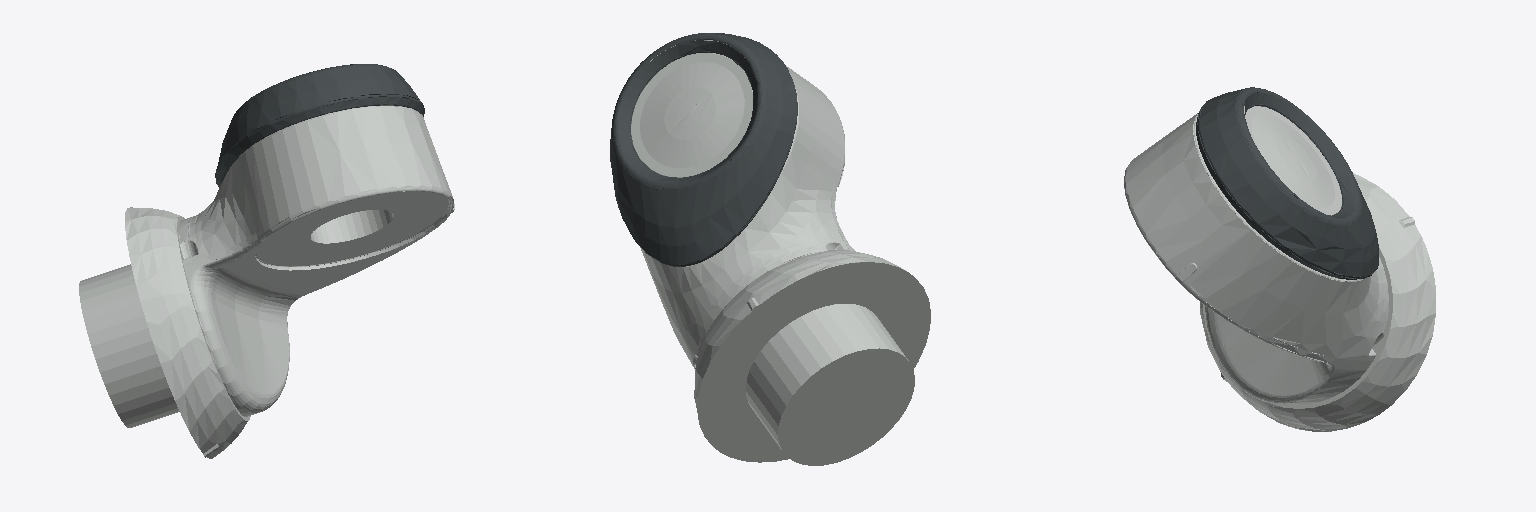
The model's file is IRB14000_rev00_Link1_L.obj.
The picture shows the model from 3 angles: view 1: azimuth 30°, elevation 25°; view 2: azimuth 150°, elevation 25°; view 3: azimuth 270°, elevation 25°; orthographic projection.
Parts seen in each view (by area): view 1: Link1_L3.0, Link1_L3.0-1; view 2: Link1_L3.0, Link1_L3.0-1; view 3: Link1_L3.0, Link1_L3.0-1.
Part boxes in pixels (x1,y1,x2,y2): Link1_L3.0: (79, 105, 454, 458); Link1_L3.0-1: (215, 64, 424, 187); Link1_L3.0: (631, 40, 930, 465); Link1_L3.0-1: (610, 33, 797, 266); Link1_L3.0: (1124, 106, 1435, 431); Link1_L3.0-1: (1196, 87, 1378, 279).
Size of the model in its own units: 0.1642 by 0.1926 by 0.1447.